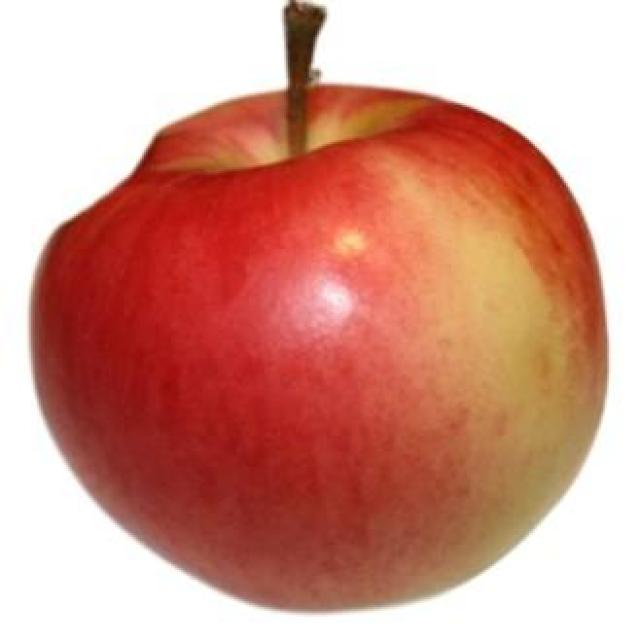Rotten Apple: (24, 78, 612, 618)
